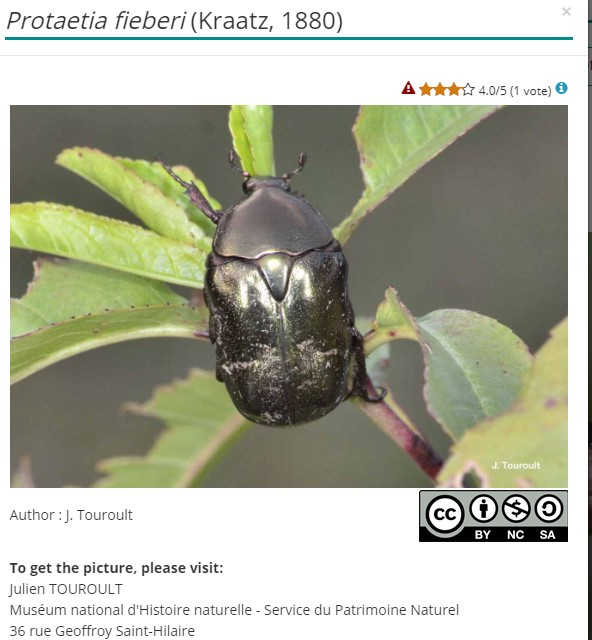Protaetia_fieberi: (150, 146, 387, 429)
